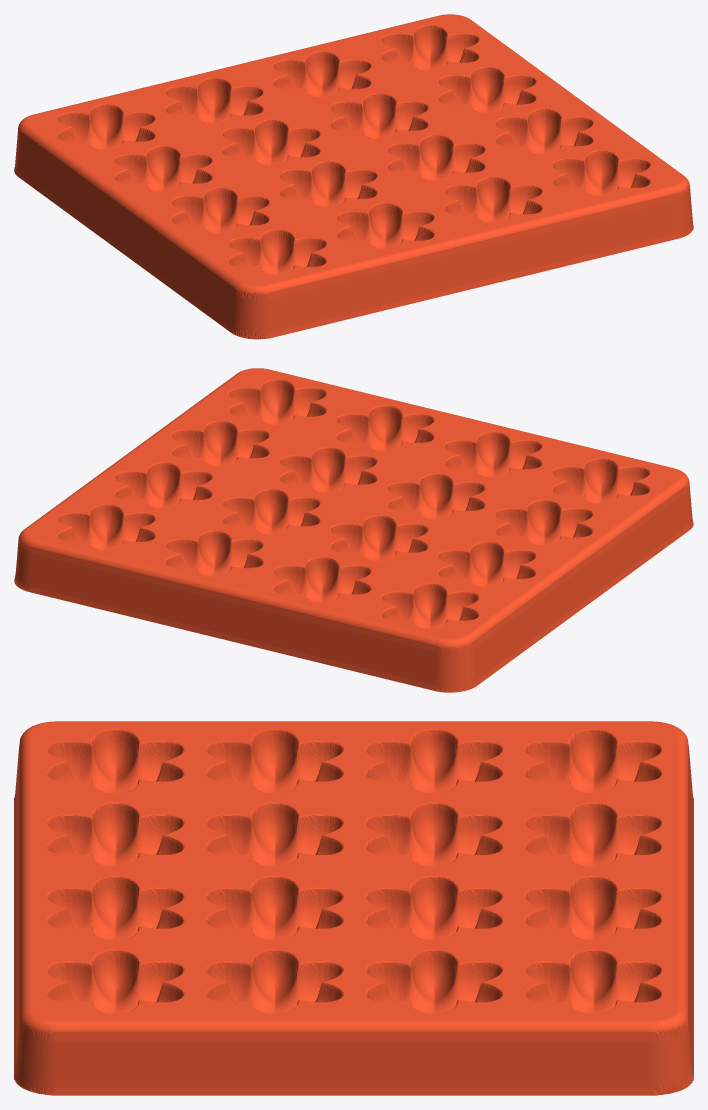
File: mold.glb
3 views of the same model, one above another, from view 1: azimuth 30°, elevation 25°; view 2: azimuth 150°, elevation 25°; view 3: azimuth 270°, elevation 25° (orthographic). The views are drawn at different scales.
Parts seen in each view (by area): view 1: geometry_0; view 2: geometry_0; view 3: geometry_0.
Boxes of the visible parts, x1,y1,x2,y2 form: geometry_0: [14, 14, 693, 339]; geometry_0: [14, 368, 693, 692]; geometry_0: [14, 721, 693, 1095].
Size of the model in its own units: 0.1569 by 0.0159 by 0.1444.
